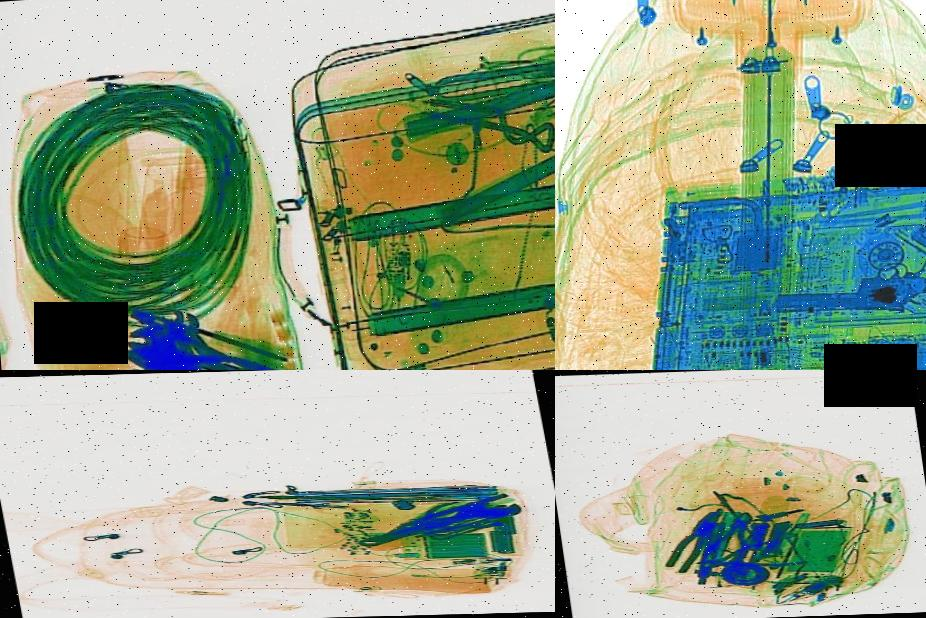Gun: (769, 240, 926, 319)
Pliers: (106, 312, 295, 370), (687, 531, 811, 581), (652, 507, 736, 574)
Wrench: (110, 309, 317, 370), (336, 492, 534, 554)
